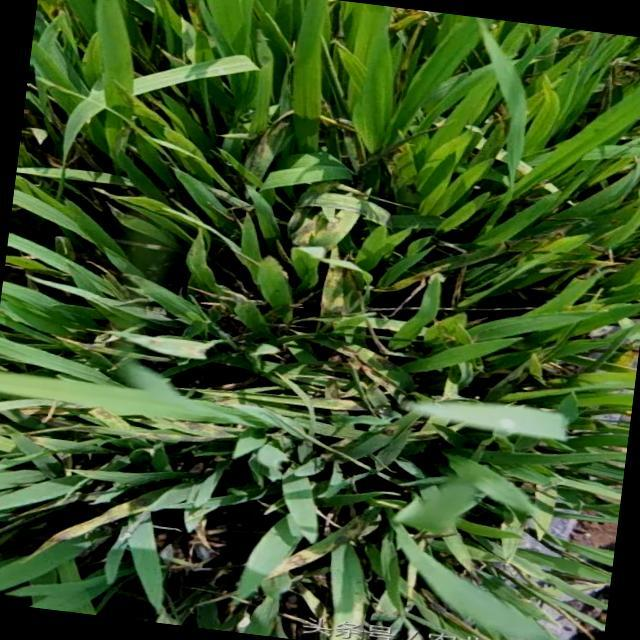brown plant hopper: (509, 422, 515, 432)
